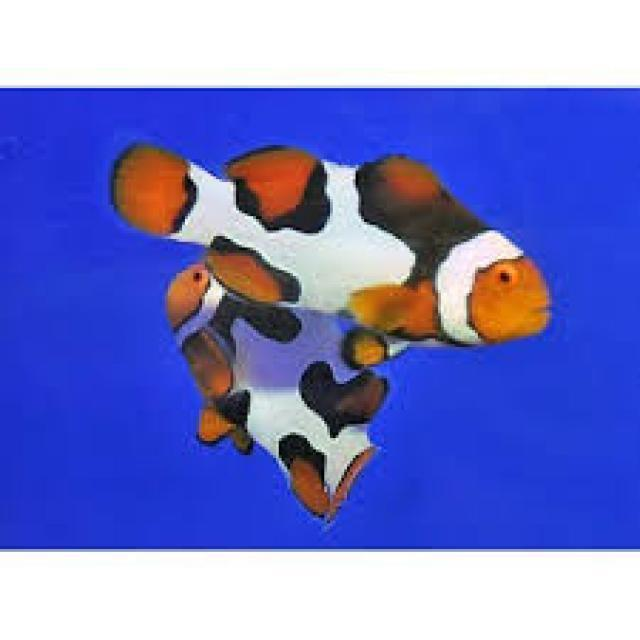ClownFish: (117, 133, 553, 357), (158, 257, 382, 529)
